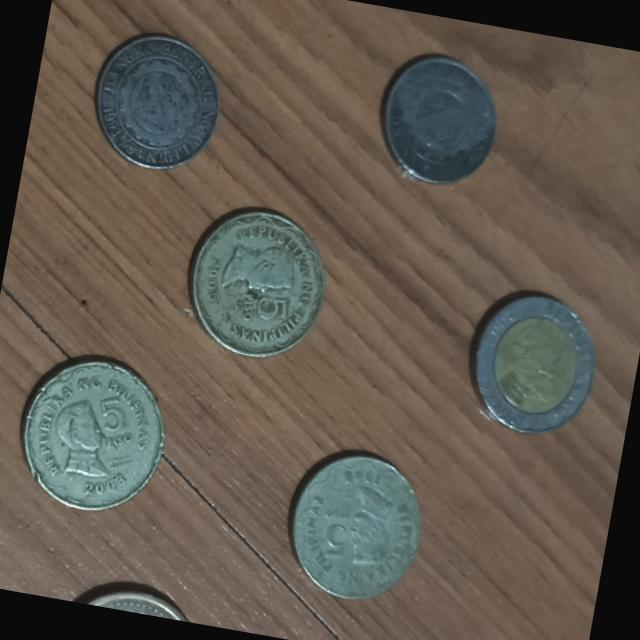10_peso: (475, 296, 593, 432)
1_peso: (94, 34, 218, 168), (382, 54, 496, 183)
5_peso: (21, 358, 163, 509), (189, 209, 324, 356), (290, 452, 420, 598)
